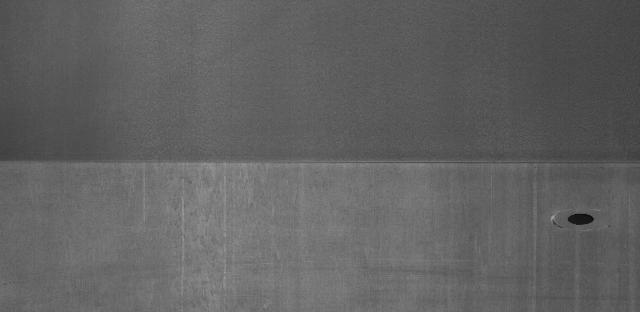punching_hole: (561, 212, 597, 228)
silk_spot: (166, 167, 272, 306)
welding_line: (0, 155, 638, 173)
